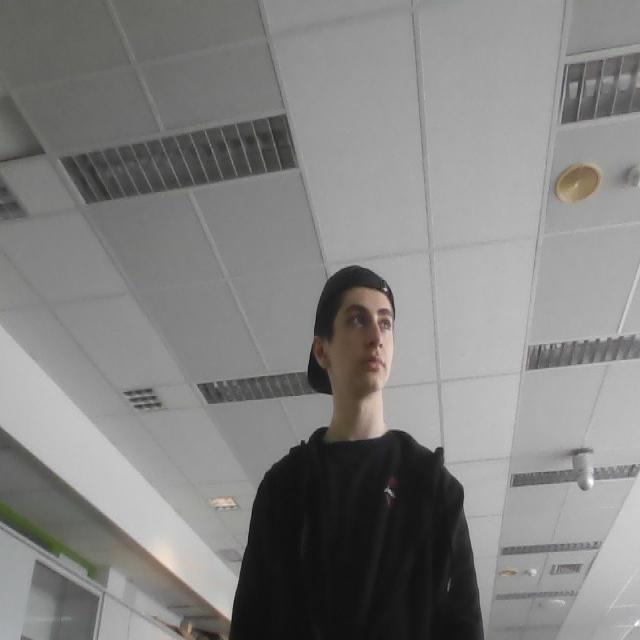opened_eye: (349, 314, 368, 330), (378, 316, 392, 332)
